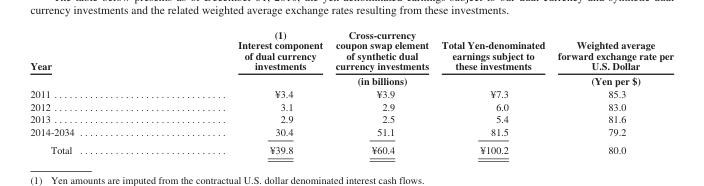table: (29, 28, 673, 155)
table column: (155, 28, 328, 155), (29, 28, 155, 155), (550, 28, 673, 155), (434, 28, 550, 155), (328, 28, 434, 155)
table column header: (29, 28, 673, 87)
table row: (29, 28, 673, 87), (29, 125, 673, 140), (29, 140, 673, 155), (29, 99, 673, 112), (29, 112, 673, 125), (29, 87, 673, 99)
